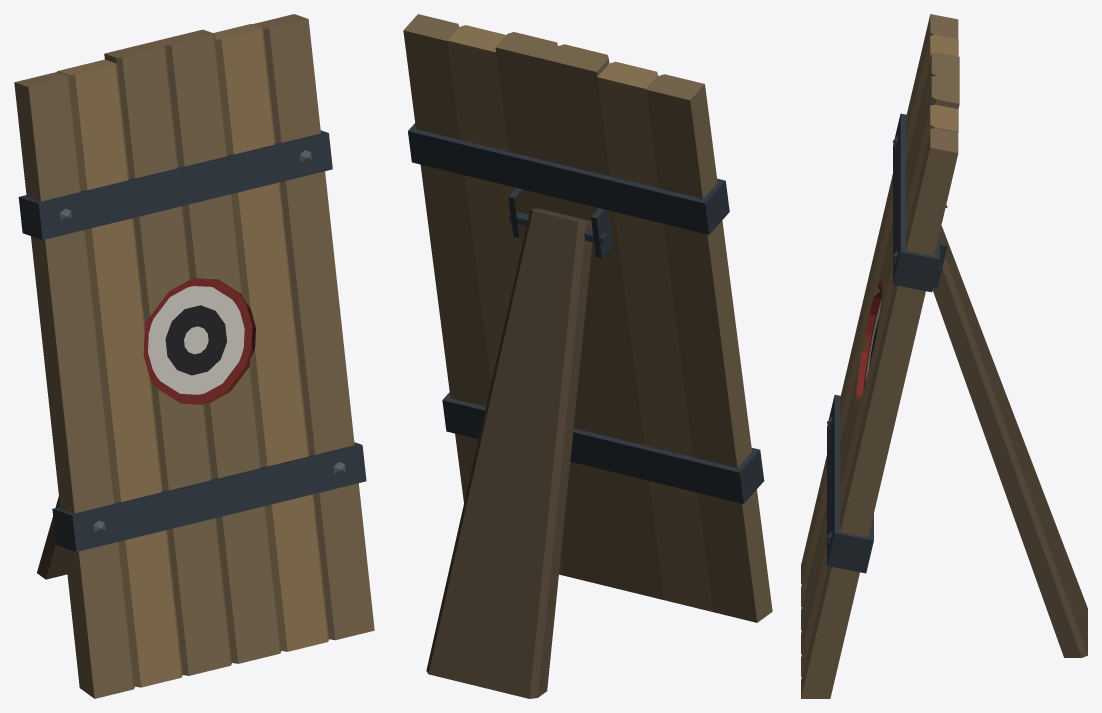
The model's file is tate-standing-shield-e5513e.glb.
3 renders of one model, left to right at view 1: azimuth 30°, elevation 25°; view 2: azimuth 150°, elevation 25°; view 3: azimuth 270°, elevation 25°, orthographic. The views are drawn at different scales.
Visible parts, largest first — view 1: object 1, prop; view 2: object 1, prop; view 3: object 1, prop.
Part boxes in pixels (x1,y1,x2,y2): object 1: [14, 14, 374, 698]; prop: [37, 496, 67, 579]; object 1: [403, 14, 772, 622]; prop: [426, 208, 592, 698]; object 1: [801, 14, 959, 698]; prop: [932, 226, 1087, 657].
Size of the model in its own units: 0.8 by 1.5 by 0.7.
